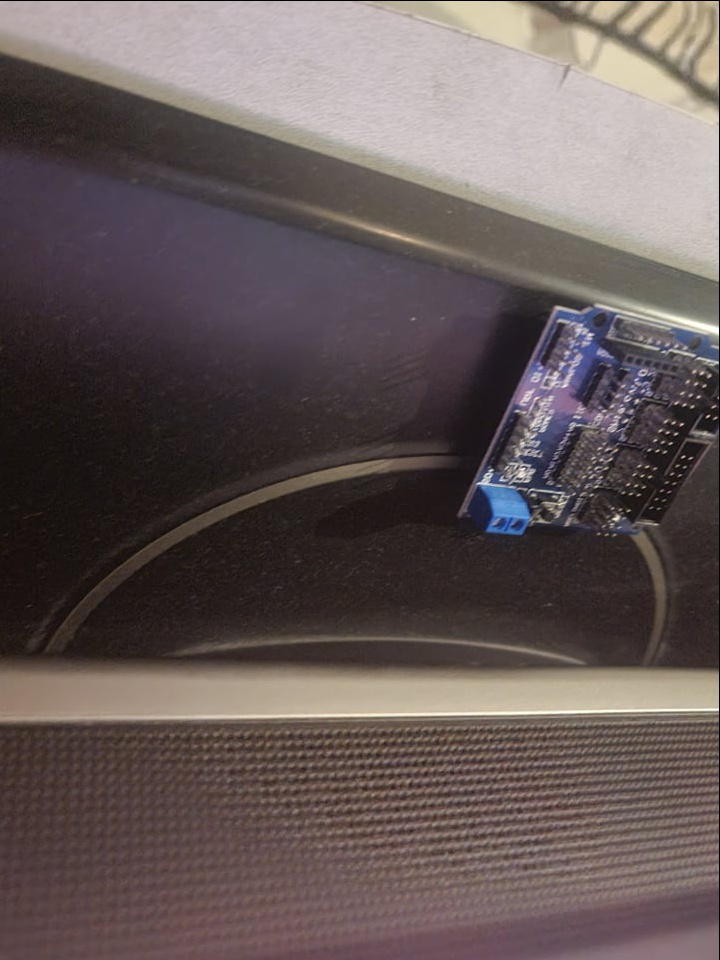5V EXPANSION: (458, 300, 720, 534)
